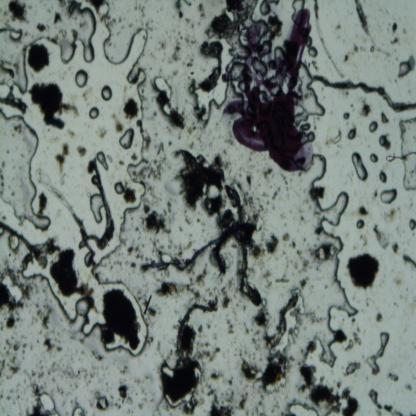Air bubble: (49, 0, 152, 84), (0, 105, 52, 232), (187, 32, 234, 128), (311, 266, 352, 370), (311, 188, 353, 249), (58, 296, 102, 341), (397, 114, 416, 194), (367, 331, 391, 374), (0, 63, 29, 98), (304, 153, 332, 185), (39, 391, 61, 416), (352, 150, 368, 181), (287, 401, 320, 416), (89, 192, 104, 223), (163, 392, 191, 408), (152, 72, 170, 96), (377, 188, 399, 207), (118, 124, 134, 150), (345, 358, 362, 379), (74, 68, 90, 90), (160, 360, 175, 378), (395, 63, 413, 78), (369, 388, 381, 410), (95, 151, 108, 171), (100, 83, 113, 102), (70, 404, 88, 416), (113, 180, 125, 197), (89, 104, 99, 120), (305, 46, 318, 58), (367, 119, 378, 133), (354, 217, 366, 229), (84, 250, 93, 266), (407, 217, 416, 231), (378, 134, 388, 146), (347, 128, 357, 140), (380, 169, 388, 183), (162, 252, 172, 263), (370, 152, 378, 164)
Background material: (142, 220, 262, 277), (178, 143, 252, 224), (96, 289, 144, 351), (260, 290, 300, 348), (158, 354, 203, 404), (28, 87, 80, 130), (134, 138, 172, 184), (53, 245, 83, 298), (344, 249, 380, 292), (199, 37, 223, 97), (256, 348, 287, 391), (158, 93, 188, 131), (310, 384, 341, 415), (208, 13, 238, 45), (2, 0, 30, 34), (157, 277, 201, 298), (140, 210, 173, 237), (0, 86, 28, 113), (339, 383, 361, 416), (31, 238, 56, 267), (181, 322, 201, 358), (25, 42, 48, 72), (299, 362, 319, 394), (0, 282, 22, 311), (209, 394, 236, 416), (310, 242, 337, 262), (34, 302, 54, 329), (264, 233, 284, 259), (371, 223, 389, 251), (122, 94, 140, 121), (144, 290, 159, 320), (245, 281, 262, 306), (293, 250, 311, 273), (195, 336, 212, 360), (241, 356, 257, 380), (183, 394, 200, 416), (54, 145, 68, 171), (92, 390, 110, 410), (356, 228, 373, 249), (326, 126, 342, 148), (118, 383, 133, 405), (24, 402, 47, 416), (196, 262, 210, 285), (384, 402, 406, 416), (238, 386, 252, 408), (167, 43, 183, 62), (78, 282, 98, 297), (261, 264, 273, 289), (358, 97, 372, 118), (7, 233, 21, 254), (256, 308, 270, 329), (176, 238, 192, 256), (251, 201, 263, 224), (8, 355, 21, 376), (248, 243, 264, 260), (122, 187, 138, 204), (308, 185, 326, 200), (304, 312, 324, 325), (209, 344, 222, 363), (43, 333, 56, 352), (66, 363, 82, 378), (126, 241, 140, 258), (403, 252, 416, 270), (173, 0, 184, 21), (243, 188, 255, 207), (7, 270, 21, 286), (280, 173, 291, 193), (64, 125, 78, 140), (107, 15, 121, 30), (150, 236, 161, 255), (6, 312, 19, 328), (113, 116, 125, 133), (142, 134, 152, 154), (76, 143, 90, 157), (180, 36, 196, 48), (224, 316, 234, 335), (37, 196, 46, 217), (221, 287, 229, 310), (86, 158, 96, 176), (263, 167, 274, 183), (0, 167, 6, 196), (205, 379, 215, 396), (90, 349, 104, 361), (209, 370, 224, 381), (183, 208, 193, 224), (83, 369, 93, 385), (49, 362, 62, 374), (336, 329, 347, 343), (251, 336, 262, 350), (354, 329, 362, 348), (91, 0, 106, 10), (381, 108, 391, 123), (23, 254, 32, 270), (12, 123, 24, 135), (133, 5, 145, 17), (33, 382, 41, 400), (390, 240, 400, 254), (68, 1, 78, 15), (198, 1, 206, 18), (23, 285, 32, 300), (166, 237, 175, 252), (145, 19, 154, 34), (226, 390, 236, 403), (23, 369, 33, 382), (223, 132, 233, 145), (342, 106, 350, 122), (386, 372, 400, 381), (309, 340, 317, 355), (271, 402, 281, 414), (0, 357, 6, 377), (111, 260, 123, 270), (185, 16, 194, 29), (245, 174, 253, 188), (154, 336, 161, 352), (395, 274, 403, 288), (134, 225, 142, 239), (131, 150, 139, 164), (54, 384, 65, 394), (280, 232, 291, 242), (187, 61, 194, 76), (388, 207, 396, 220), (360, 204, 370, 214), (389, 37, 398, 48), (276, 277, 290, 284), (376, 310, 383, 323), (140, 205, 153, 212), (146, 335, 153, 348), (36, 369, 46, 378), (119, 366, 128, 376), (164, 200, 172, 211), (132, 375, 140, 386), (38, 23, 46, 34), (12, 342, 20, 353), (393, 20, 399, 34), (97, 10, 104, 22), (258, 190, 270, 197), (271, 190, 278, 202), (148, 254, 157, 263), (92, 271, 100, 281), (280, 210, 288, 220), (89, 362, 99, 370), (52, 16, 62, 24), (301, 279, 308, 290), (21, 342, 28, 353), (257, 409, 268, 416), (98, 129, 106, 138), (158, 42, 166, 51), (118, 157, 126, 166), (318, 373, 326, 382), (314, 228, 324, 235), (6, 338, 12, 349), (348, 339, 354, 350), (404, 383, 412, 391), (55, 346, 64, 353), (243, 325, 250, 334), (77, 339, 86, 346), (290, 240, 297, 249), (344, 52, 350, 62), (254, 328, 260, 338), (154, 405, 160, 415), (259, 393, 264, 405), (114, 401, 122, 408), (137, 402, 144, 410), (60, 28, 67, 36), (71, 29, 76, 40), (31, 369, 37, 378), (221, 147, 228, 154), (302, 198, 308, 206), (48, 377, 57, 382), (0, 392, 5, 400), (240, 348, 244, 358), (179, 224, 184, 232), (298, 213, 303, 221), (131, 262, 136, 269), (409, 411, 416, 416), (338, 380, 342, 388), (248, 164, 256, 168), (242, 306, 246, 314), (0, 324, 4, 332), (315, 211, 320, 217), (7, 394, 12, 400), (198, 325, 202, 332), (7, 350, 11, 357), (272, 203, 276, 210), (234, 245, 239, 250), (197, 216, 202, 221), (266, 199, 270, 205), (247, 158, 253, 162), (352, 317, 356, 323), (144, 374, 148, 380), (40, 364, 44, 370), (30, 345, 34, 351), (229, 379, 232, 386), (168, 143, 172, 148), (304, 236, 307, 242), (153, 114, 157, 118), (38, 360, 42, 364), (299, 172, 302, 177), (208, 325, 211, 330), (230, 282, 232, 289), (24, 377, 26, 384), (37, 338, 39, 344), (17, 395, 20, 399)
Cellulose filter fibre: (32, 154, 118, 252), (312, 72, 416, 113), (175, 293, 220, 354), (312, 0, 344, 79), (356, 0, 378, 55)
Pen: (232, 0, 315, 184)
